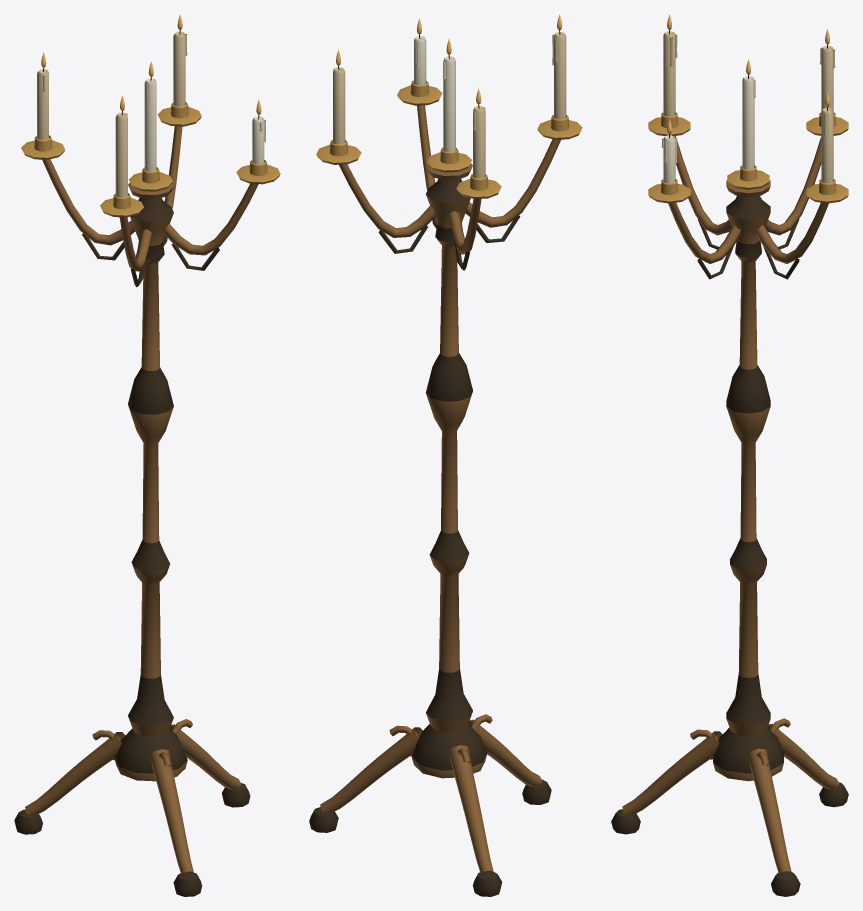
The model's file is candelabrum.glb.
3 renders of one model, left to right at view 1: azimuth 30°, elevation 25°; view 2: azimuth 150°, elevation 25°; view 3: azimuth 270°, elevation 25°, orthographic. The views are drawn at different scales.
Parts seen in each view (by area): view 1: kandelaber; view 2: kandelaber; view 3: kandelaber.
Boxes of the visible parts, bbox=[...] form: kandelaber: bbox=[14, 14, 280, 896]; kandelaber: bbox=[309, 14, 582, 896]; kandelaber: bbox=[611, 14, 848, 896].
Size of the model in its own units: 0.52 by 1.89 by 0.5108.
